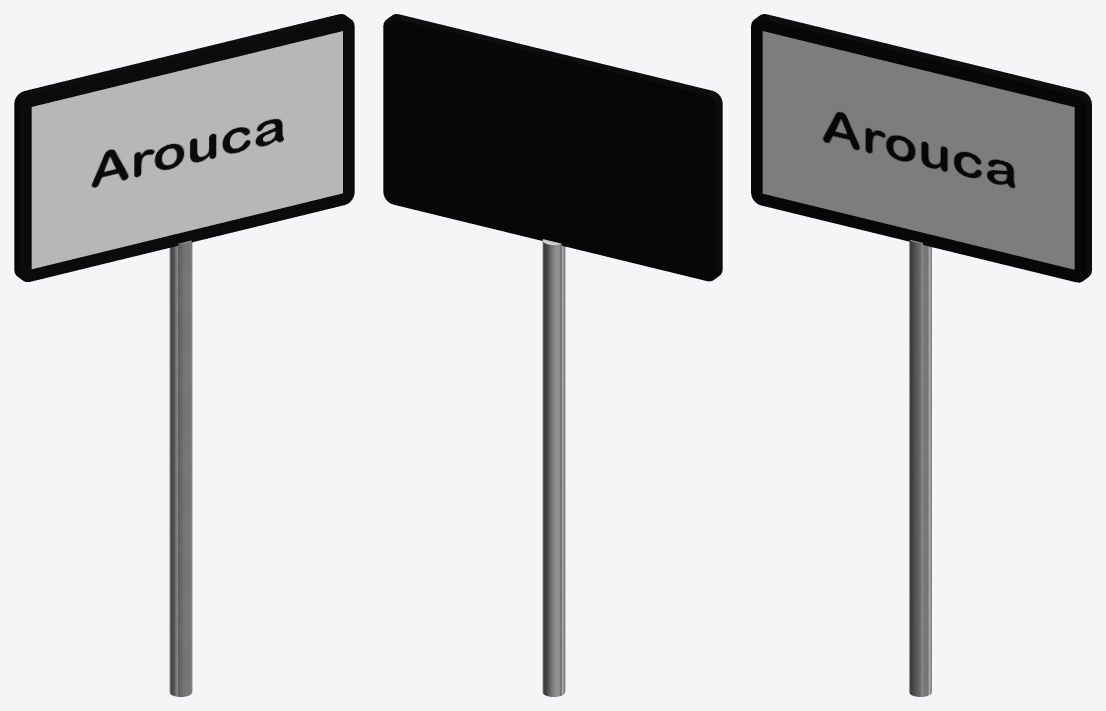
The model's file is Arouca.gltf.
The picture shows the model from 3 angles, left to right: view 1: azimuth 30°, elevation 25°; view 2: azimuth 150°, elevation 25°; view 3: azimuth 330°, elevation 25°; orthographic projection.
Parts seen in each view (by area): view 1: root; view 2: root; view 3: root.
Boxes of the visible parts, bbox=[...] form: root: bbox=[14, 14, 354, 696]; root: bbox=[383, 14, 722, 696]; root: bbox=[751, 14, 1091, 696].
Bounding box in the file's own units: 0.4318 × 0.7865 × 0.0254.
4 materials, 2 textured.
